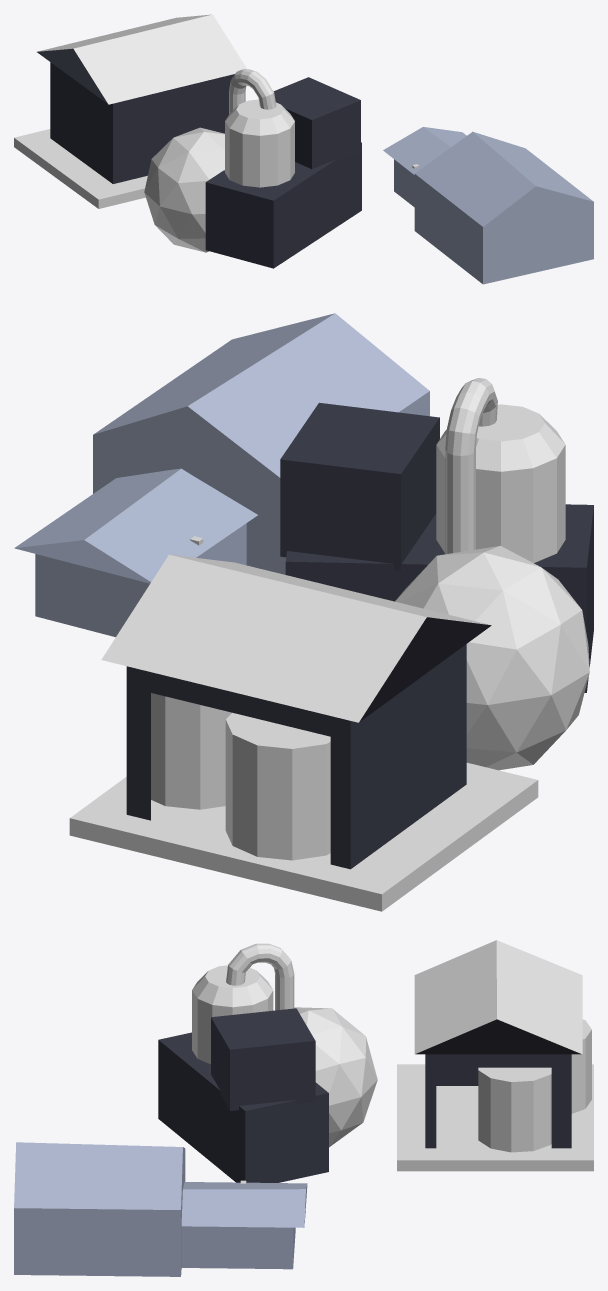
File: lab.glb
3 renders of one model, top to bottom at view 1: azimuth 30°, elevation 25°; view 2: azimuth 150°, elevation 25°; view 3: azimuth 270°, elevation 25°, orthographic. The views are drawn at different scales.
Parts seen in each view (by area): view 1: Cylinder.002; view 2: Cylinder.002; view 3: Cylinder.002.
Part boxes in pixels (<box>): Cylinder.002: <box>14,14,593,284</box>; Cylinder.002: <box>14,313,593,911</box>; Cylinder.002: <box>14,940,593,1276</box>.
Size of the model in its own units: 43.4 by 23.1 by 56.07.
